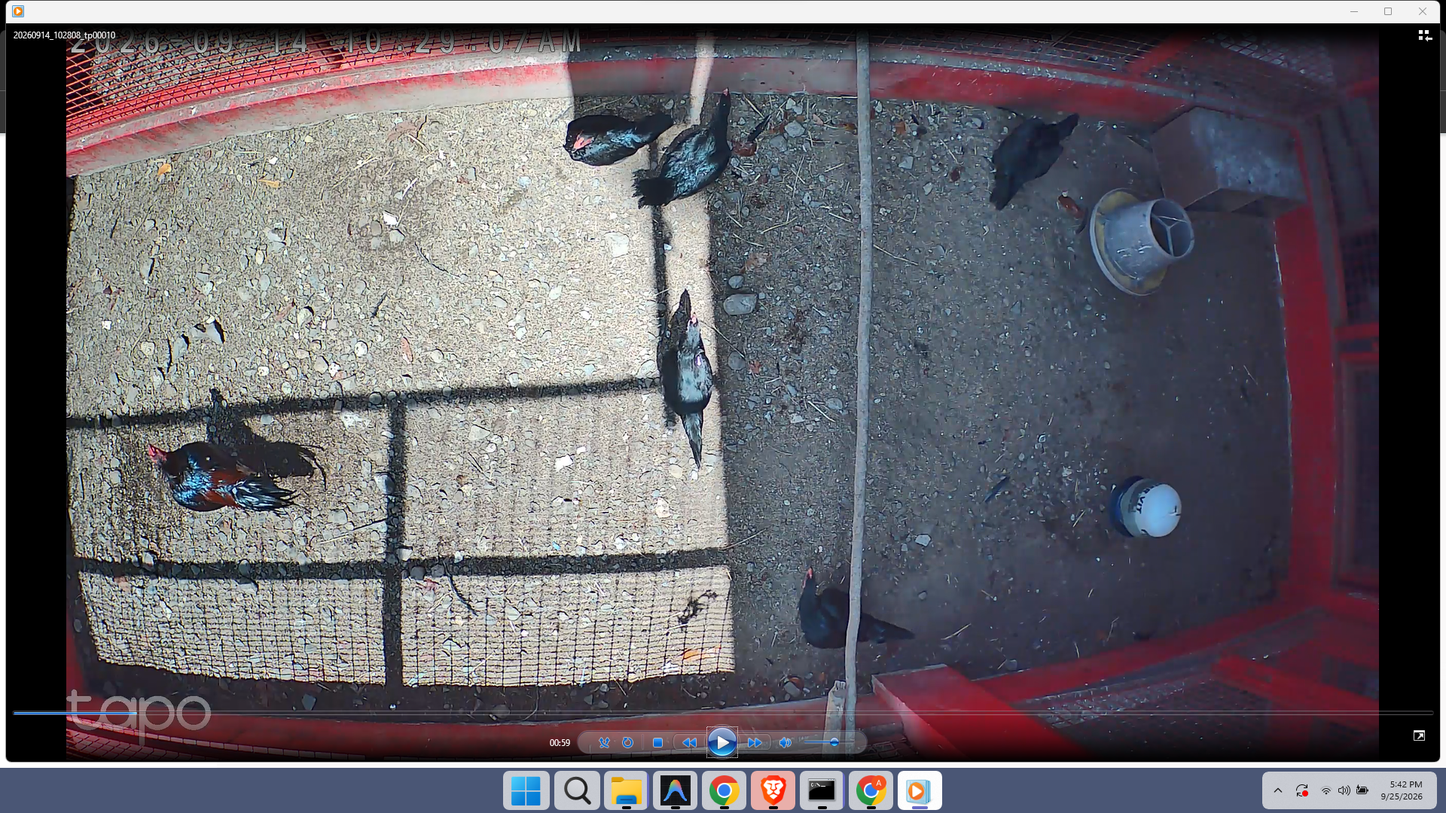Chicken: (635, 84, 732, 209), (786, 562, 920, 647), (986, 109, 1082, 210), (659, 310, 714, 477), (558, 113, 676, 166)
Drinker: (1107, 474, 1183, 538)
Feeder: (1083, 185, 1198, 295)
Rooster: (139, 440, 301, 516)
